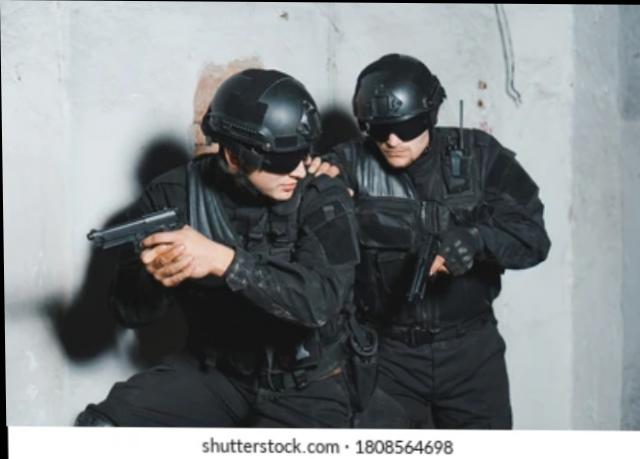other: (94, 71, 352, 423), (334, 54, 554, 418)
